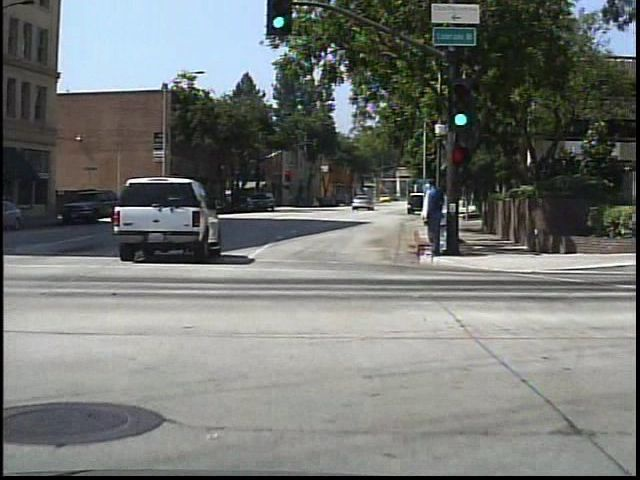person: (422, 175, 448, 258), (415, 180, 438, 261), (310, 193, 322, 209)
